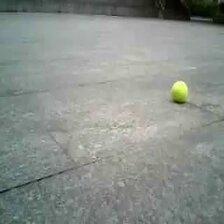tennis: (171, 81, 188, 101)
